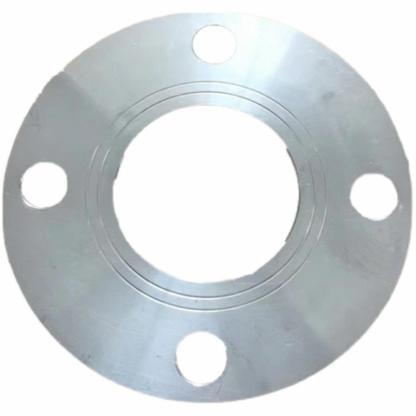FOD: (0, 5, 415, 407)
